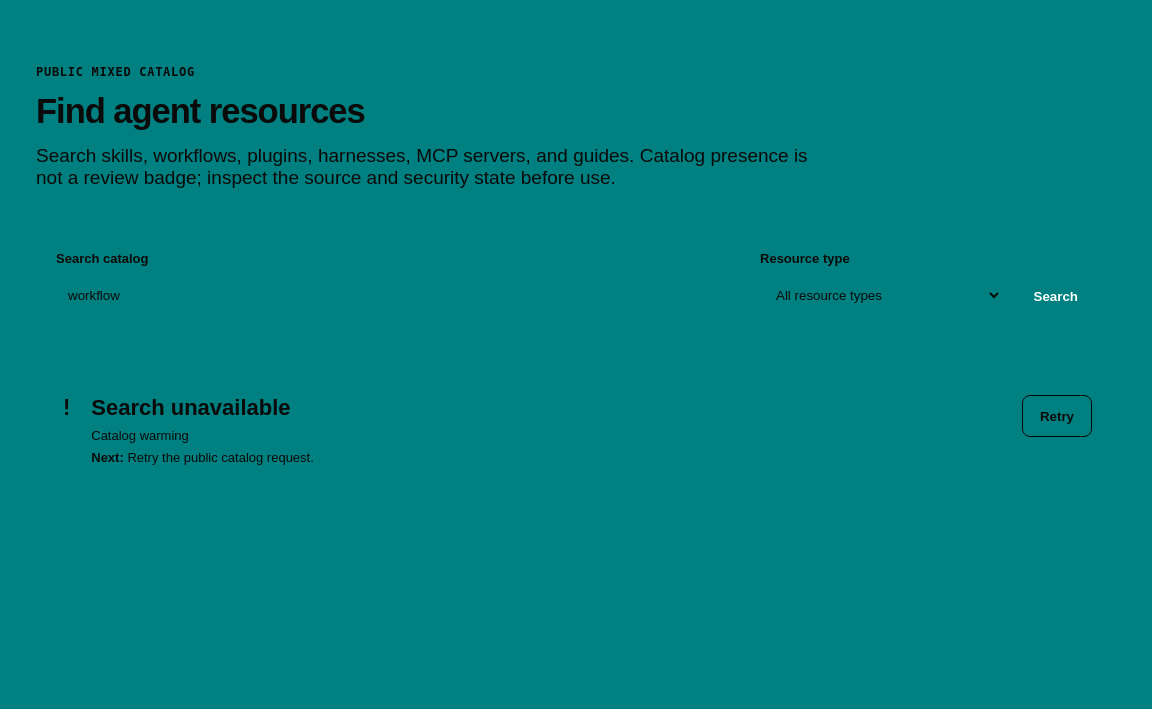
Test: search failure remains retryable and does not show stale results
Expected: the heading "Search unavailable" is shown, x1=91 y1=395 x2=314 y2=421
Expected: the text "Markdown research workflow" is not shown
Click the button "Retry": (1057, 416) x1=1022 y1=395 x2=1092 y2=437
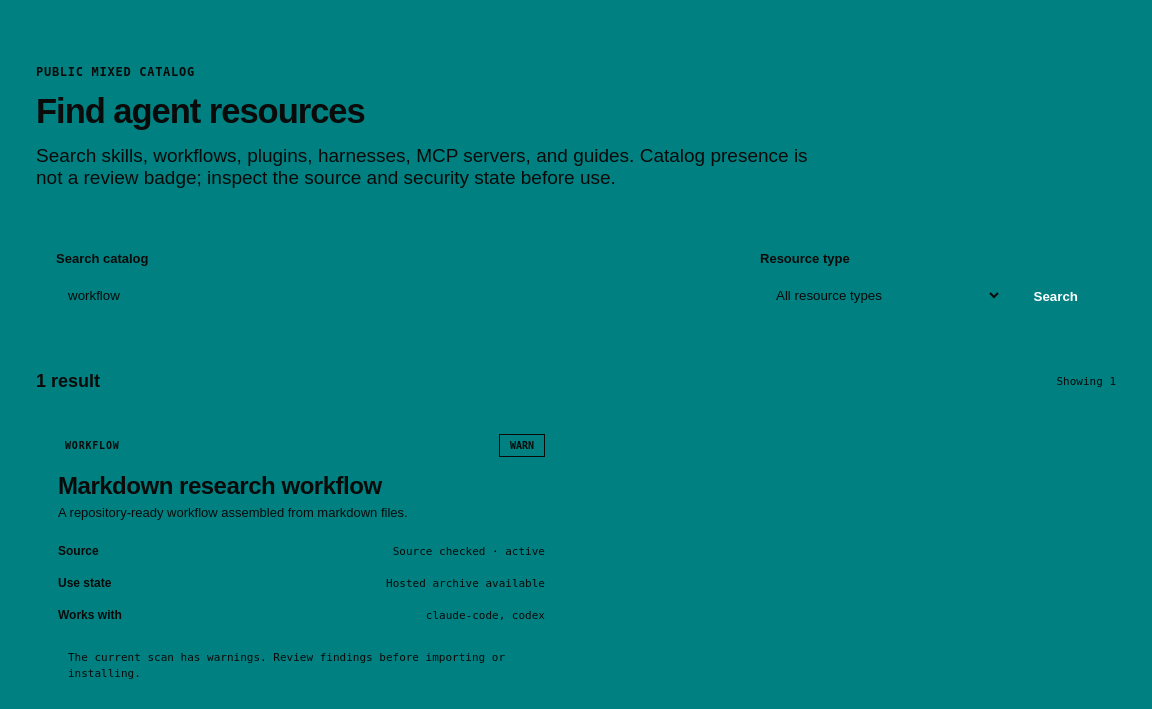
Expected: the heading "Markdown research workflow" is shown, x1=58 y1=472 x2=382 y2=499
